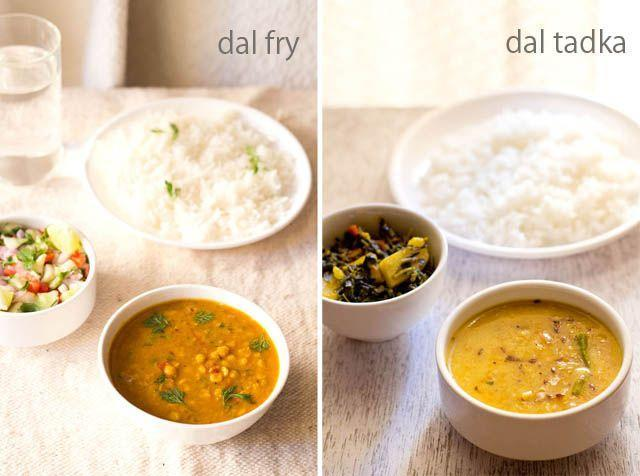dal: (111, 303, 285, 432), (447, 301, 619, 414)
rice: (417, 101, 631, 265), (87, 104, 299, 239)
